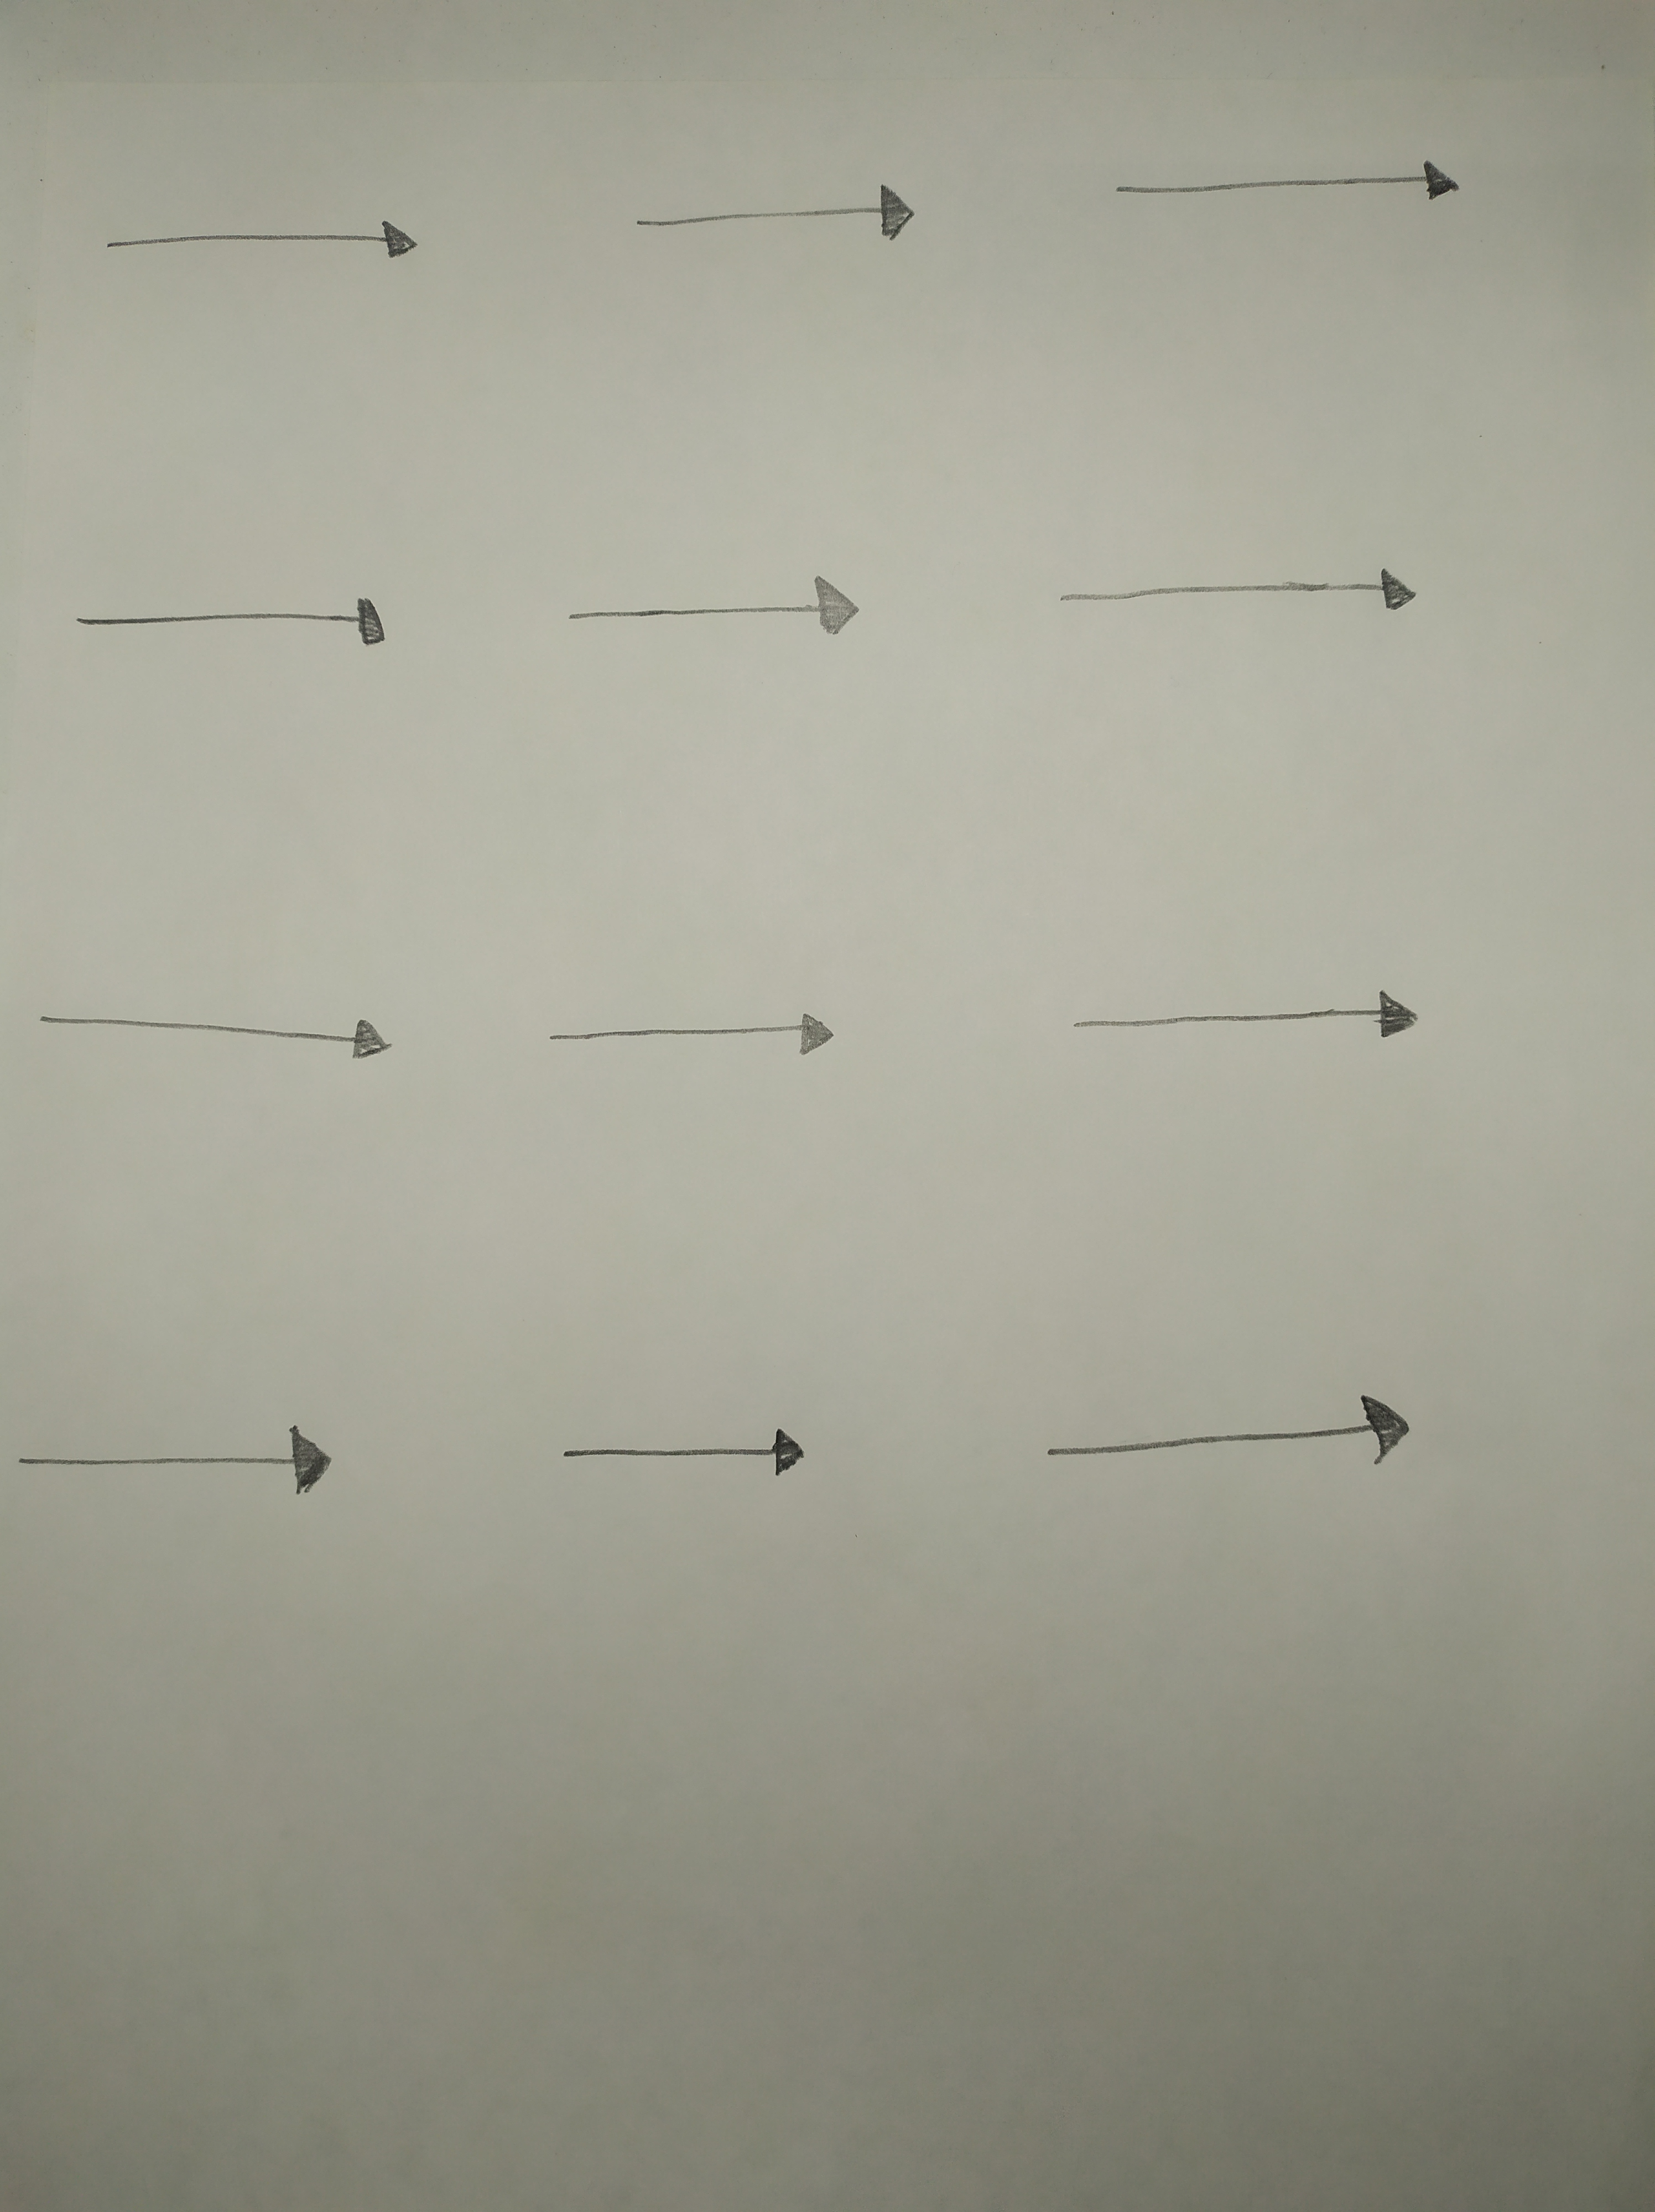arrow_line_right: (1027, 1387, 1452, 1513), (19, 982, 435, 1088), (1027, 544, 1434, 643), (1088, 136, 1511, 229), (73, 177, 445, 281), (49, 568, 422, 667), (1052, 978, 1441, 1070), (10, 1416, 379, 1513), (518, 1397, 843, 1500), (534, 558, 867, 652), (520, 992, 866, 1079), (602, 170, 944, 254)
